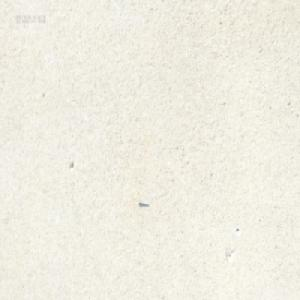Nail: (138, 199, 148, 207)
